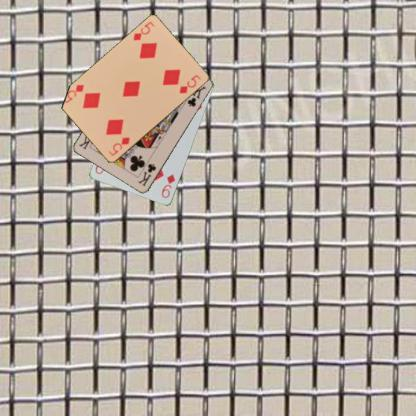5d: (130, 19, 156, 42), (106, 135, 130, 157)
9d: (159, 172, 176, 199)
Kc: (135, 161, 158, 188)
